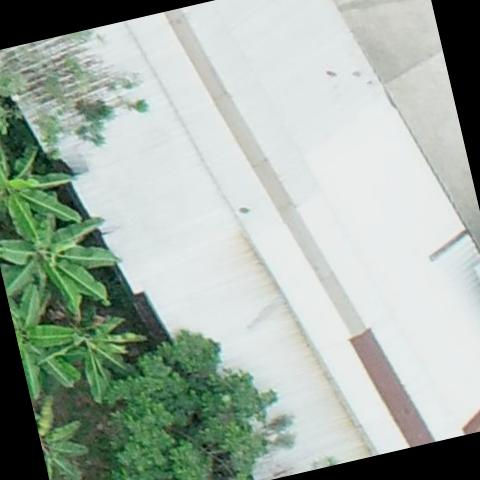Banana-plant: (0, 186, 131, 333), (20, 287, 159, 418), (0, 124, 100, 252), (4, 270, 88, 400), (32, 396, 97, 480)
